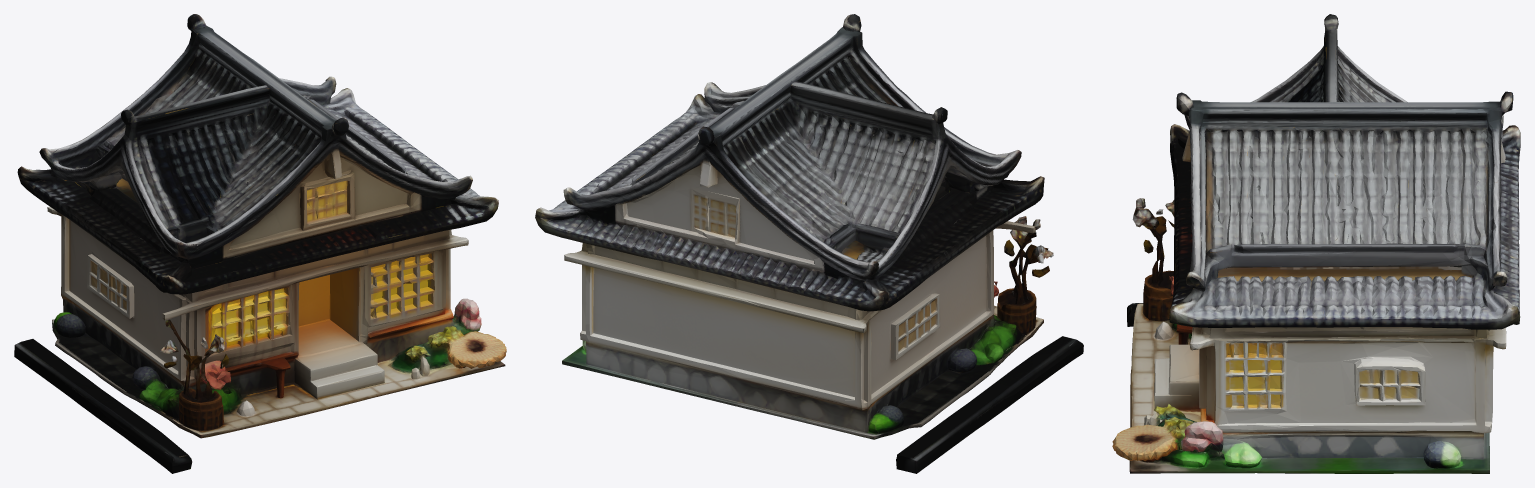
File: porcelain-miniature-house-japanese.jpeg.glb
3 renders of one model, left to right at view 1: azimuth 30°, elevation 25°; view 2: azimuth 150°, elevation 25°; view 3: azimuth 270°, elevation 25°, orthographic. The views are drawn at different scales.
Visible parts, largest first — view 1: world; view 2: world; view 3: world.
Part boxes in pixels (x1,y1,x2,y2): world: (14, 14, 506, 473); world: (535, 14, 1083, 473); world: (1112, 14, 1520, 473).
Size of the model in its own units: 0.9361 by 0.7459 by 0.8336.
1 material, 1 textured.
